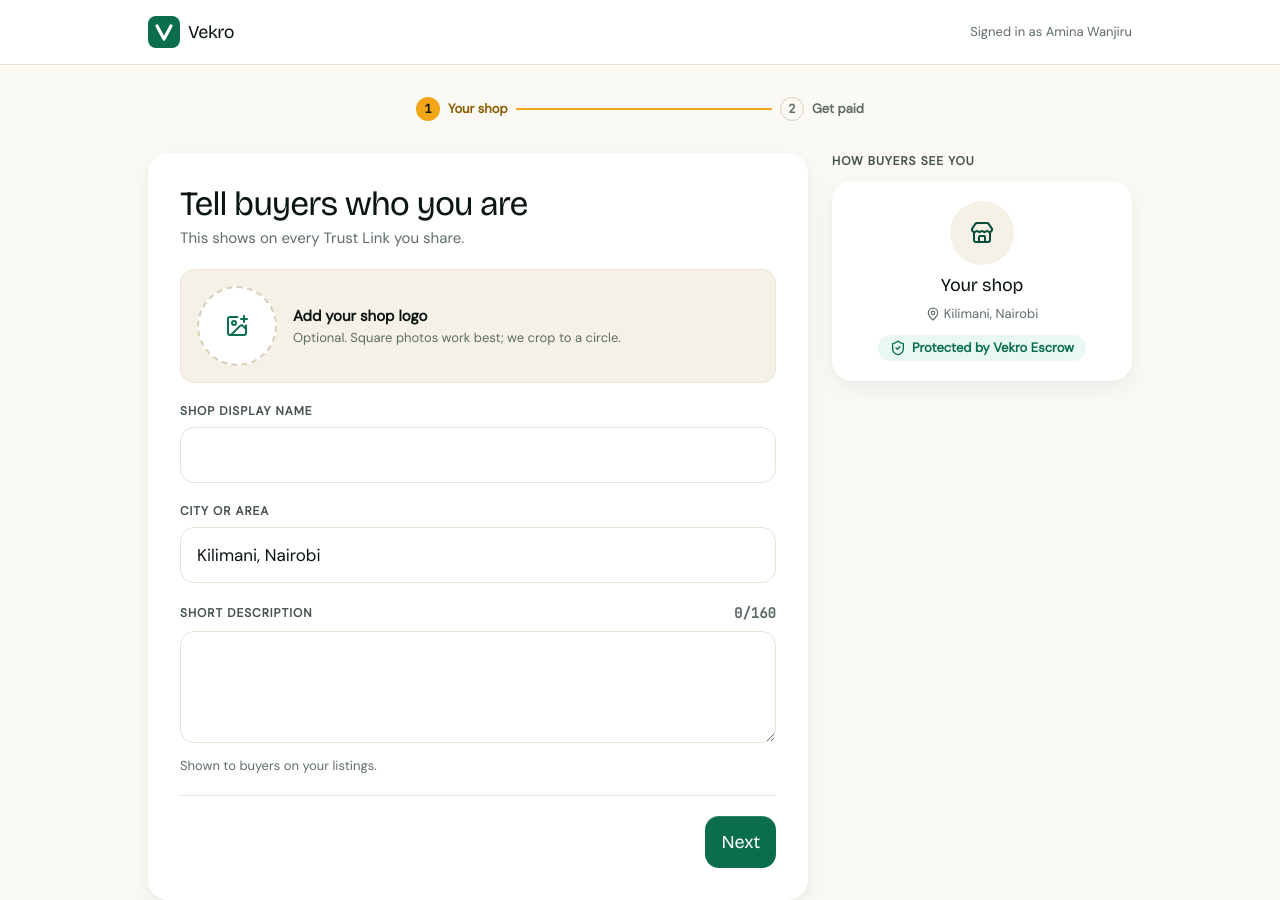
Scenario: S3 payout setup › shows the live fee example and blocks mismatched numbers
The image size is (1280, 900).
Expected: the text "Signed in as Amina Wanjiru" is shown, [970,23,1132,41]
Type "Amina Gadgets" into the field labelled "Shop display name" at {"x": 478, "y": 455}, box [180,427,776,483]
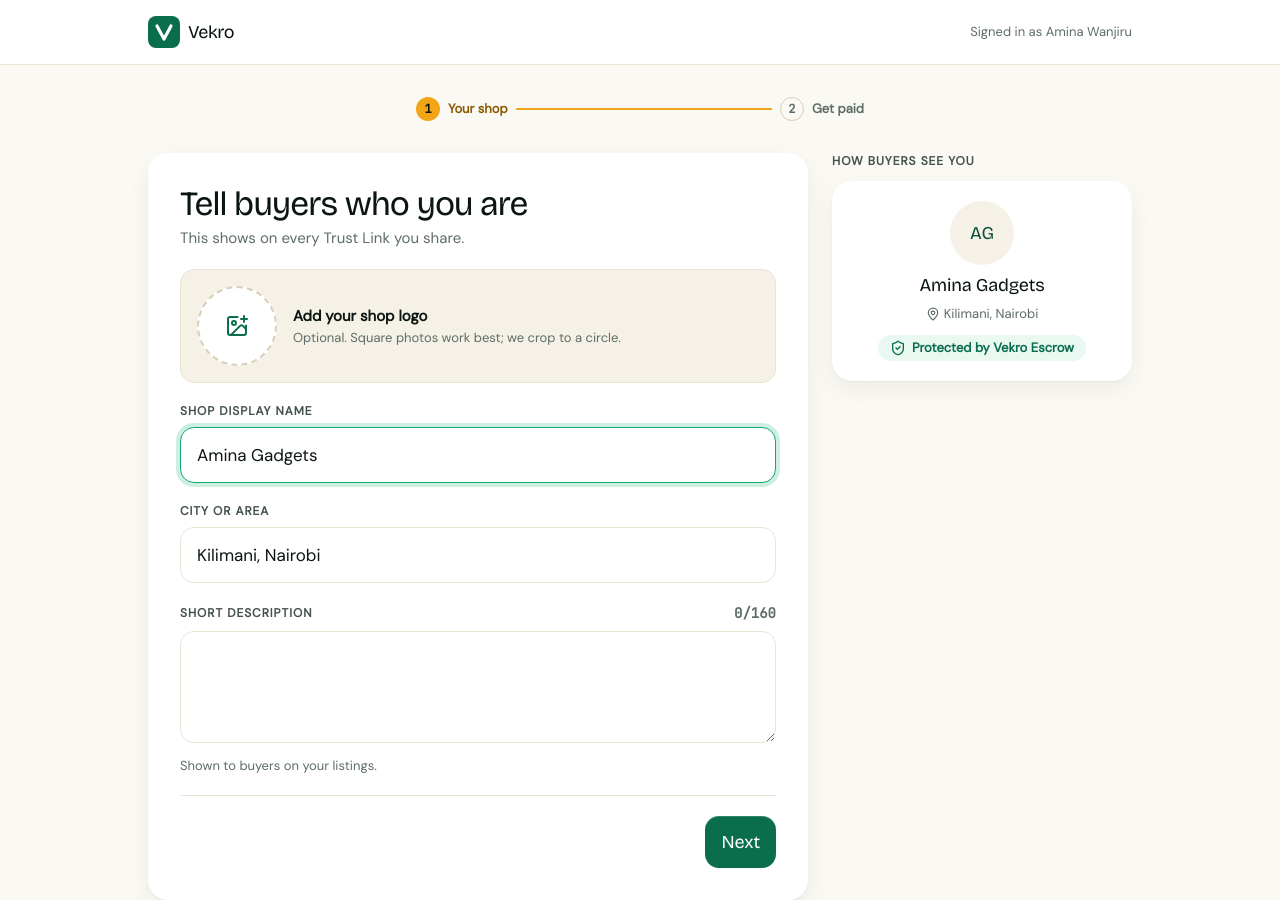
Click the button "Next" at {"x": 741, "y": 842}, box [706,816,776,868]
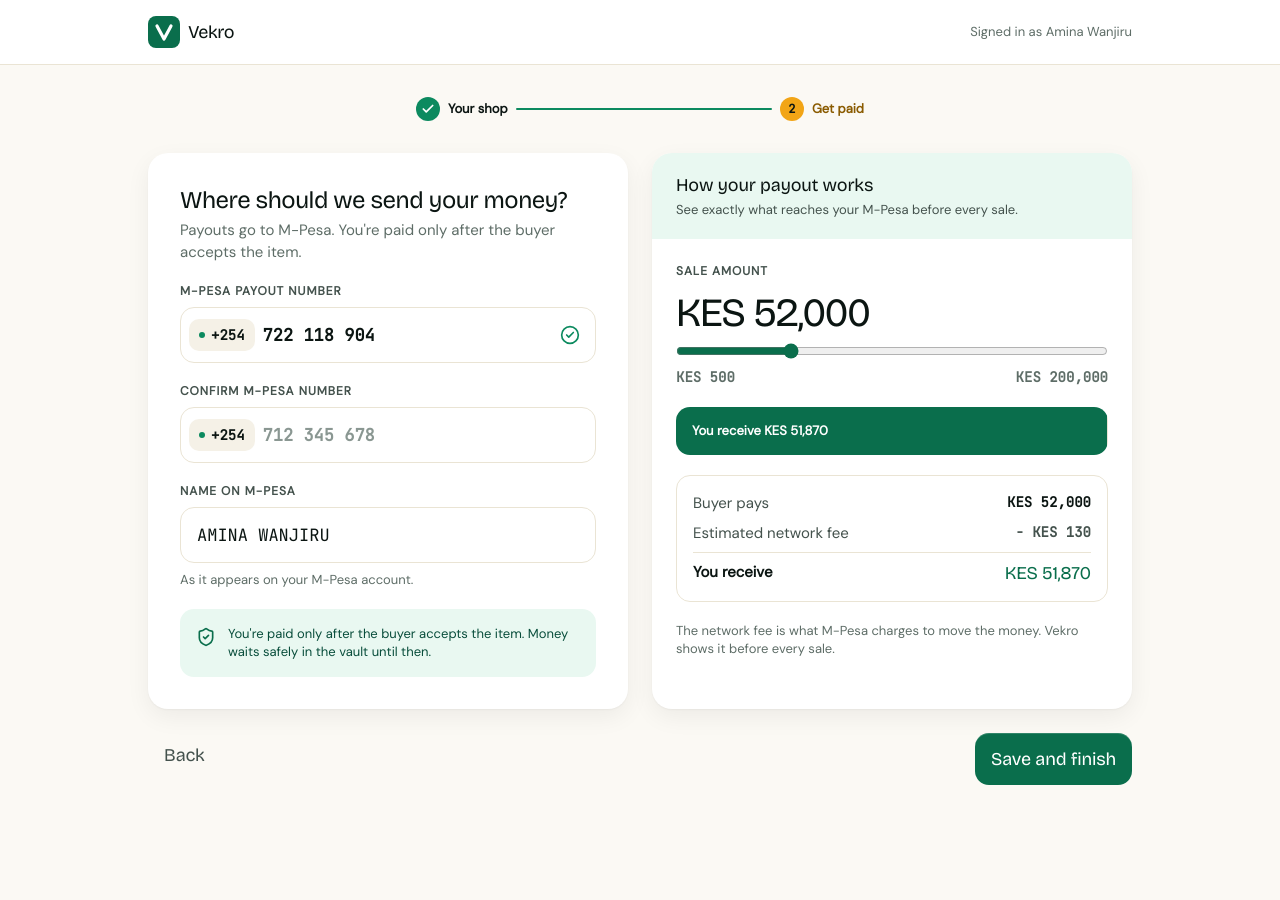
Result: the heading "Where should we send your money?" is shown at [180,185,596,215]
Result: the text "KES 51,870" is shown at [1005,561,1091,585]
Result: the field labelled "M-Pesa payout number" holds "722 118 904" at [263,308,547,362]
Type "722118940" into the field labelled "Confirm M-Pesa number" at {"x": 405, "y": 435}, box [263,408,547,462]
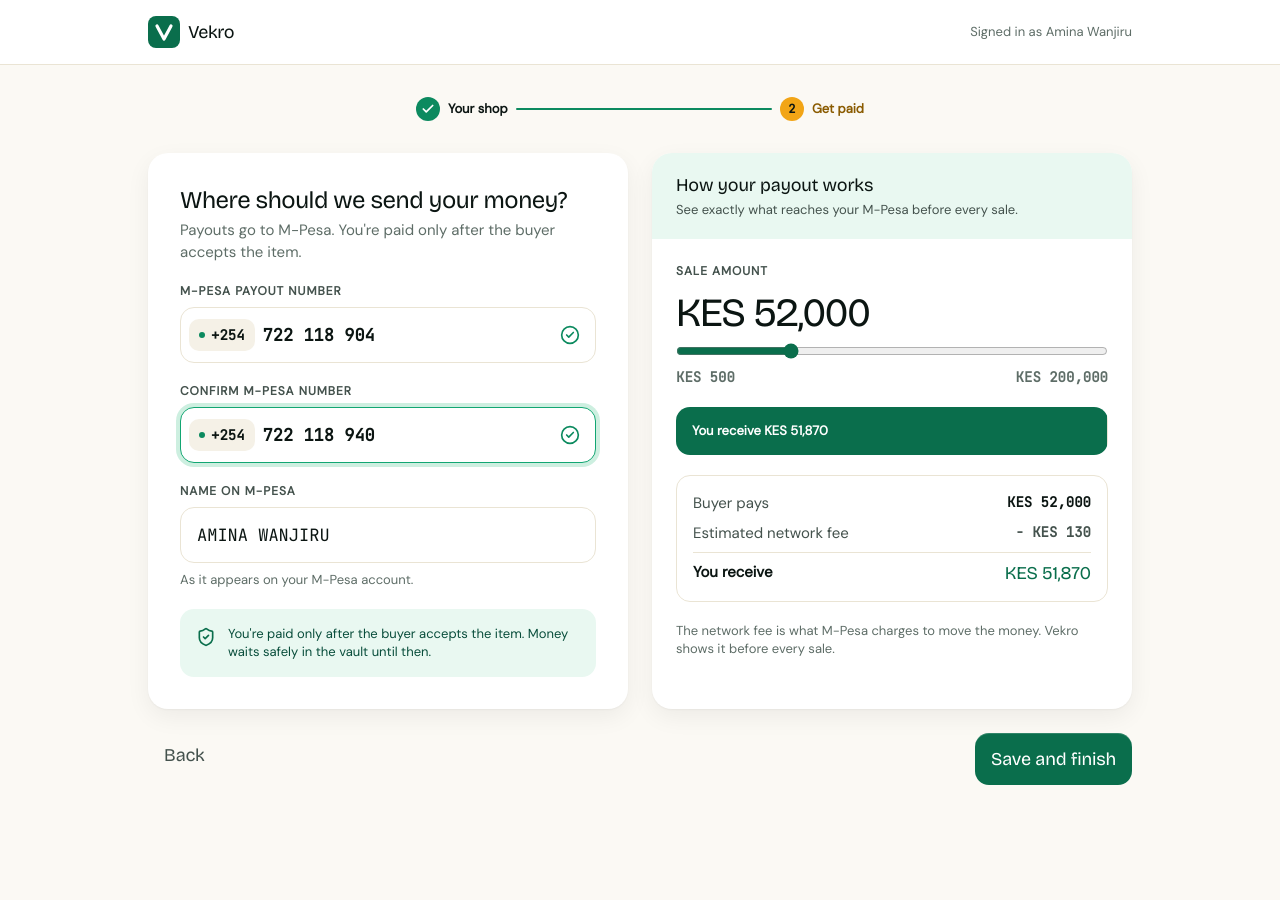
Click the button "Save and finish" at {"x": 1054, "y": 759}, box [975,733,1132,785]
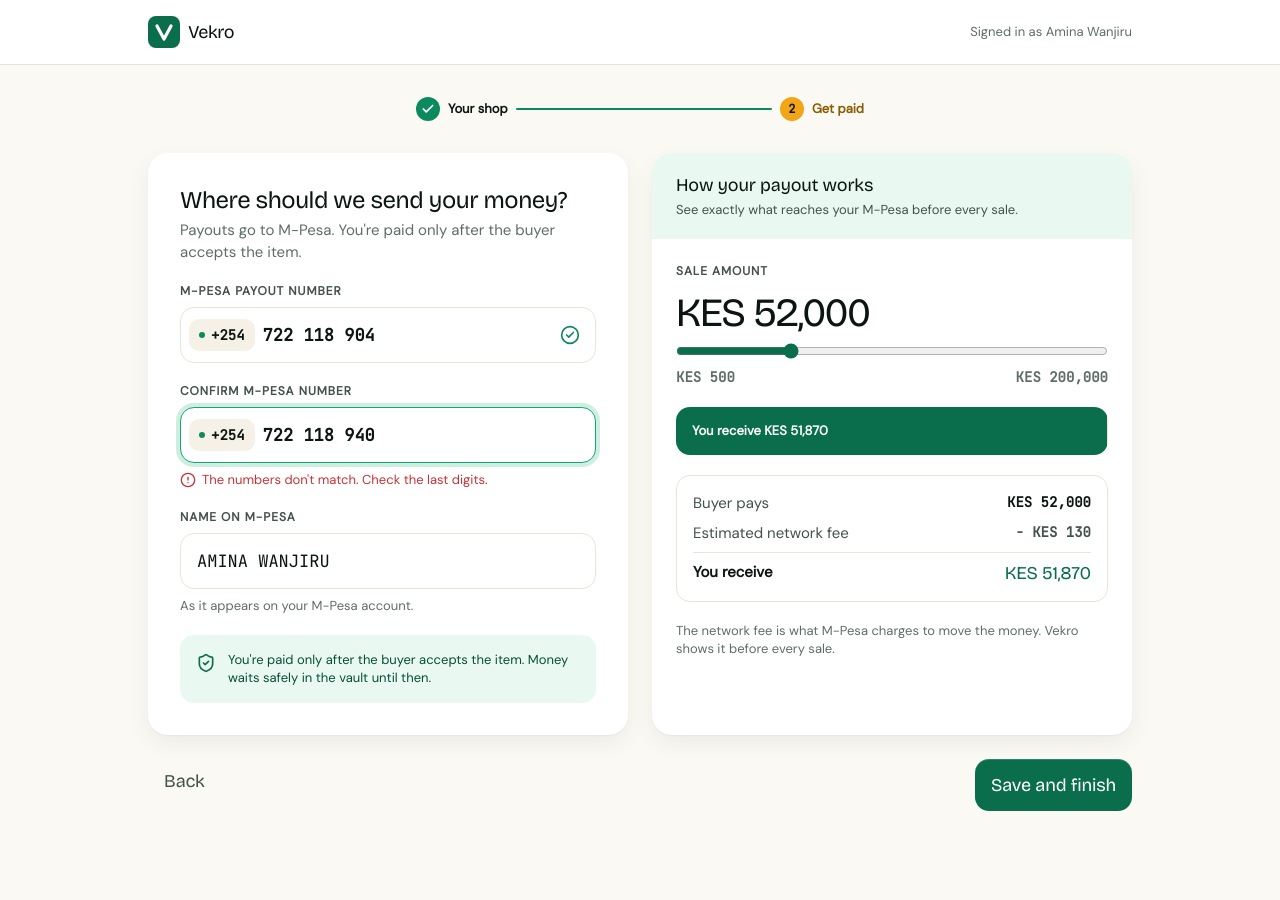
Result: the text "The numbers don't match. Check the last digits." is shown at [180,471,488,488]
